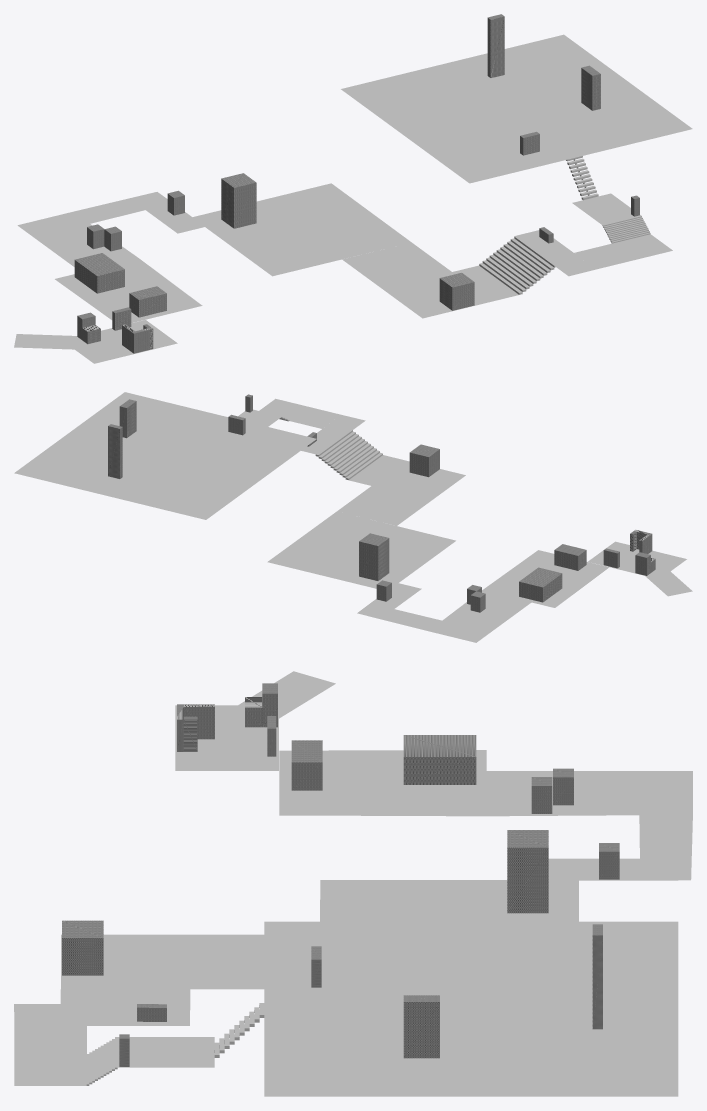
File: msp8.FBX
3 renders of one model, top to bottom at view 1: azimuth 30°, elevation 25°; view 2: azimuth 150°, elevation 25°; view 3: azimuth 270°, elevation 25°, orthographic. The views are drawn at different scales.
Visible parts, largest first — view 1: Plane009; view 2: Plane009; view 3: Plane009.
Boxes of the visible parts, bbox=[...] form: Plane009: bbox=[14, 14, 692, 363]; Plane009: bbox=[14, 392, 692, 642]; Plane009: bbox=[14, 671, 692, 1096].
Bounding box in the file's own units: 120 × 20.6 × 65.58.
